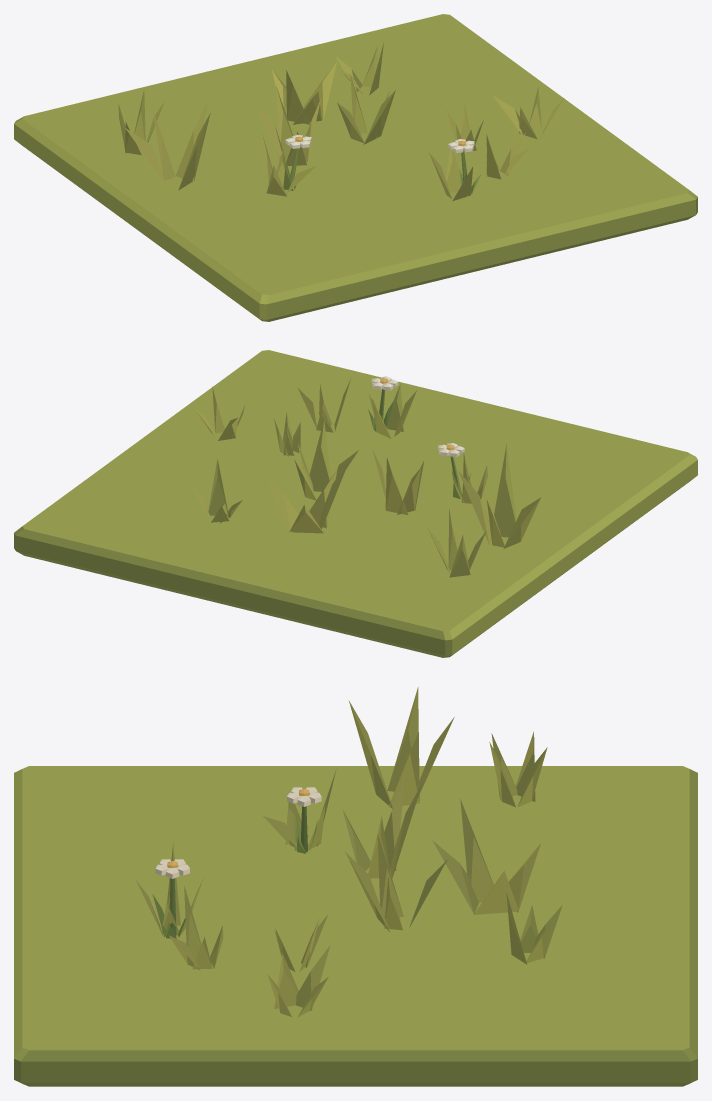
The model's file is lawn.glb.
3 views of the same model, one above another, from view 1: azimuth 30°, elevation 25°; view 2: azimuth 150°, elevation 25°; view 3: azimuth 270°, elevation 25° (orthographic). The views are drawn at different scales.
Parts seen in each view (by area): view 1: Beet · Wiese; view 2: Beet · Wiese; view 3: Beet · Wiese.
Boxes of the visible parts, box(x1,y1,x2,y2) form: Beet · Wiese: box(14, 14, 697, 321); Beet · Wiese: box(14, 350, 697, 657); Beet · Wiese: box(14, 687, 697, 1086).
Bounding box in the file's own units: 1.15 × 0.2698 × 1.14.
